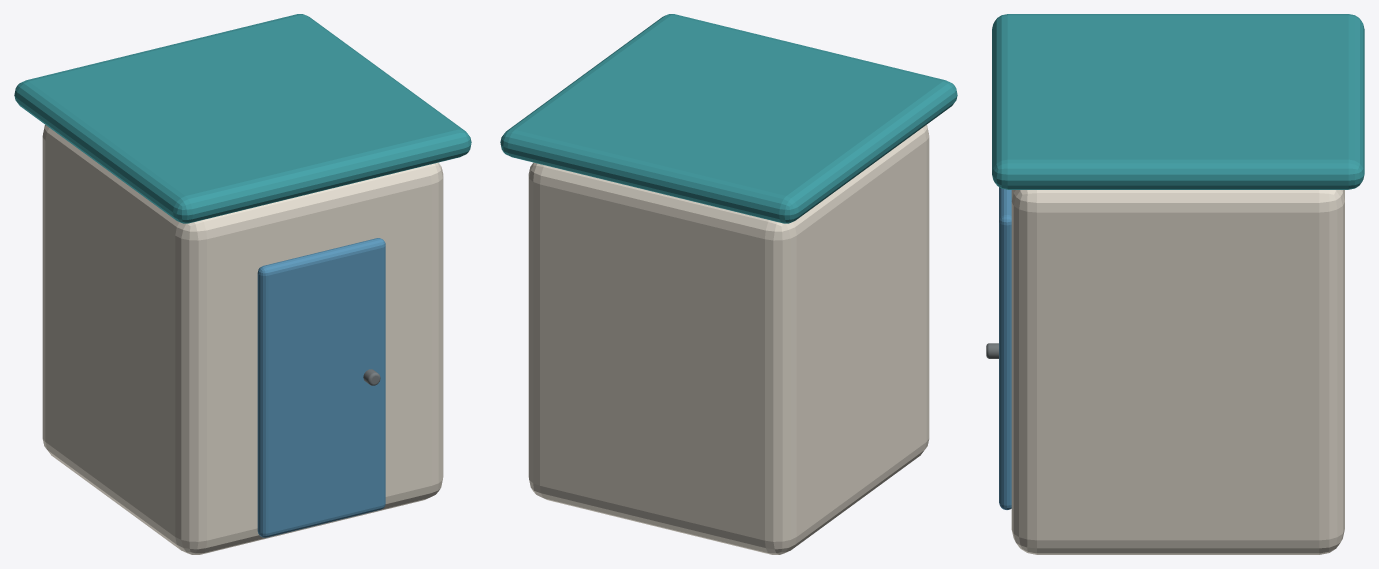
The picture shows the model from 3 angles, left to right: view 1: azimuth 30°, elevation 25°; view 2: azimuth 150°, elevation 25°; view 3: azimuth 270°, elevation 25°; orthographic projection. The views are drawn at different scales.
Visible parts, largest first — view 1: LOD0_CHANGING_CABIN_Body, LOD0_CHANGING_CABIN_Roof, LOD0_CHANGING_CABIN_Door; view 2: LOD0_CHANGING_CABIN_Body, LOD0_CHANGING_CABIN_Roof; view 3: LOD0_CHANGING_CABIN_Body, LOD0_CHANGING_CABIN_Roof, LOD0_CHANGING_CABIN_Door.
Part boxes in pixels (x1=…): LOD0_CHANGING_CABIN_Body: x1=42, y1=125, x2=443, y2=554; LOD0_CHANGING_CABIN_Roof: x1=14, y1=14, x2=471, y2=223; LOD0_CHANGING_CABIN_Door: x1=257, y1=238, x2=385, y2=537; LOD0_CHANGING_CABIN_Body: x1=528, y1=125, x2=929, y2=554; LOD0_CHANGING_CABIN_Roof: x1=500, y1=14, x2=957, y2=223; LOD0_CHANGING_CABIN_Body: x1=1011, y1=190, x2=1344, y2=554; LOD0_CHANGING_CABIN_Roof: x1=992, y1=14, x2=1364, y2=189; LOD0_CHANGING_CABIN_Door: x1=999, y1=187, x2=1011, y2=509.
Size of what is drawn, in the model's own units: 2.35 by 2.82 by 2.38.
